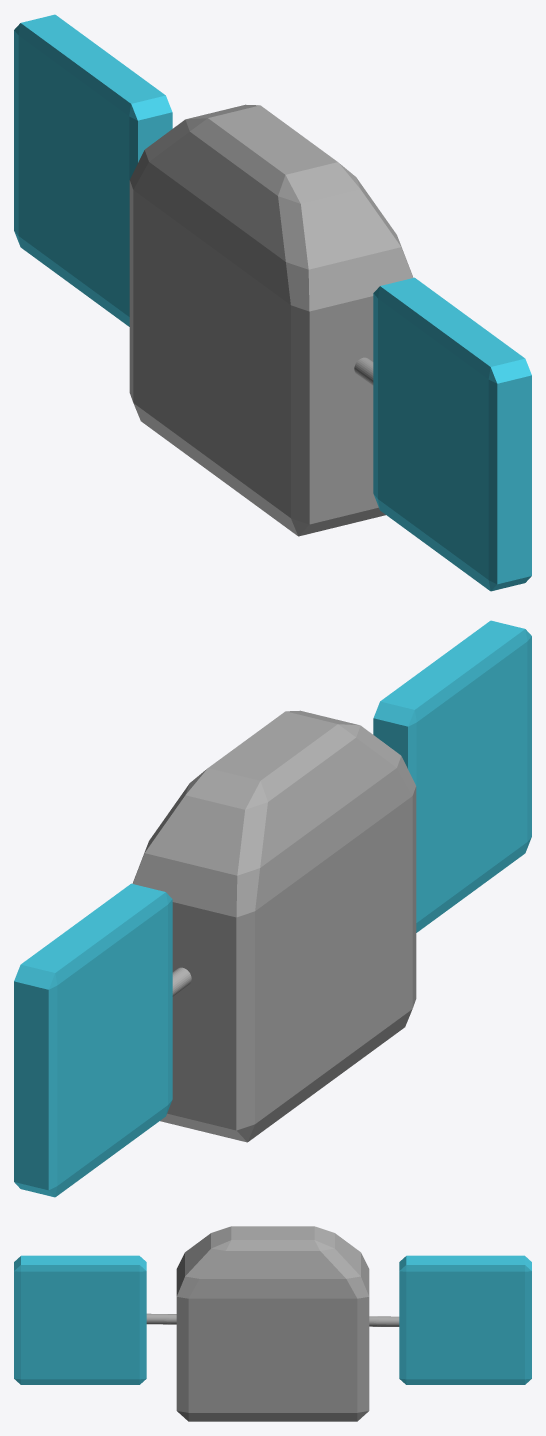
File: SatelliteBody.fbx
3 views of the same model, one above another, from view 1: azimuth 30°, elevation 25°; view 2: azimuth 150°, elevation 25°; view 3: azimuth 270°, elevation 25° (orthographic). The views are drawn at different scales.
Visible parts, largest first — view 1: Cube, Cube.002, Cube.001; view 2: Cube, Cube.001, Cube.002; view 3: Cube, Cube.001, Cube.002, Cylinder.
Boxes of the visible parts, x1,y1,x2,y2 form: Cube: [129, 104, 413, 536]; Cube.002: [373, 277, 531, 591]; Cube.001: [14, 14, 172, 326]; Cube: [132, 710, 416, 1142]; Cube.001: [14, 883, 172, 1197]; Cube.002: [373, 620, 531, 932]; Cube: [176, 1226, 369, 1421]; Cube.001: [399, 1255, 531, 1384]; Cube.002: [14, 1255, 146, 1384]; Cylinder: [146, 1313, 399, 1326].
Size of the model in its own units: 78.23 by 200 by 538.
